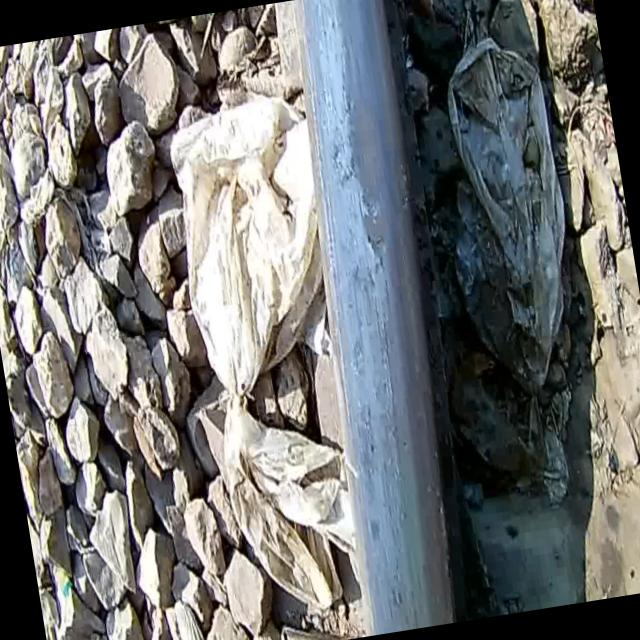Squats: (247, 0, 513, 639)
